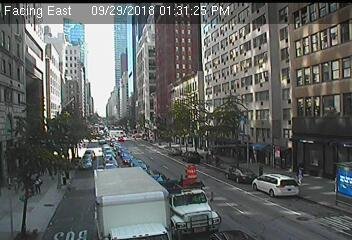car: (93, 168, 171, 240), (153, 179, 222, 238), (251, 174, 299, 197), (225, 167, 255, 185), (182, 151, 199, 163), (129, 159, 146, 170), (121, 154, 135, 165), (167, 147, 182, 157), (103, 163, 118, 173), (79, 159, 92, 169), (103, 151, 117, 159), (104, 156, 116, 165), (81, 154, 93, 162)
